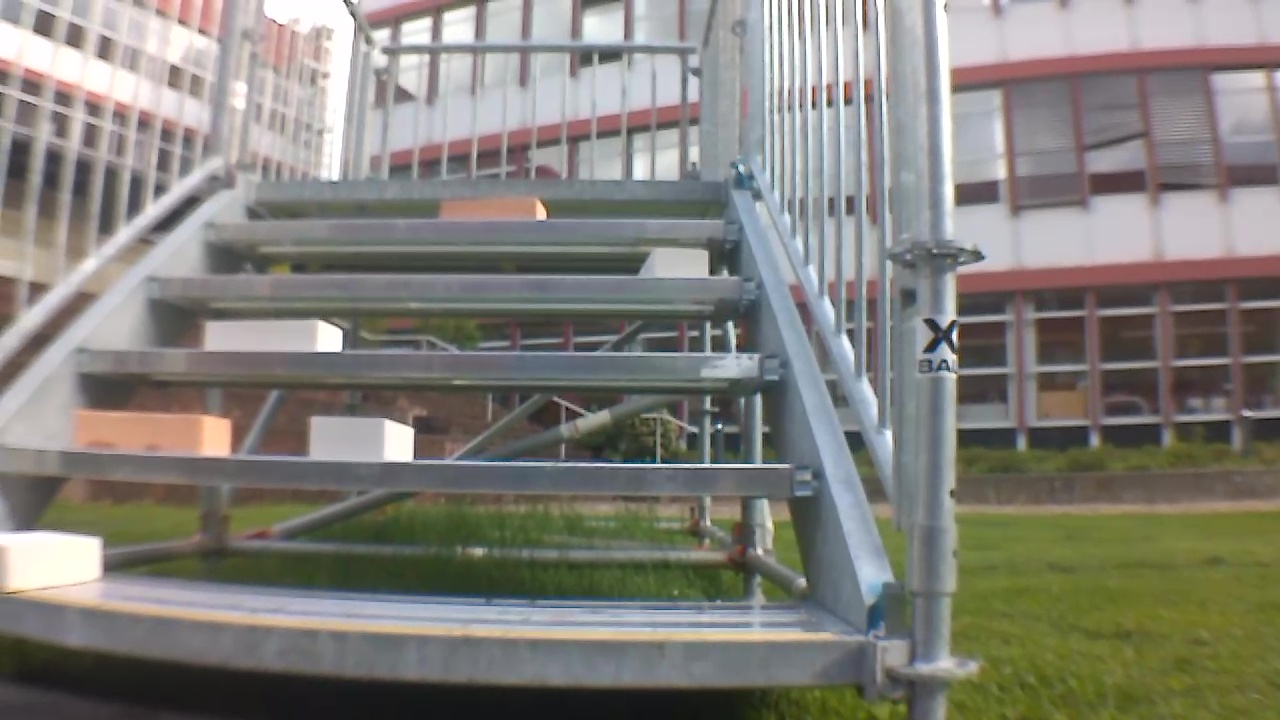brick: (71, 410, 230, 456), (1, 532, 100, 591), (312, 418, 414, 462), (206, 320, 342, 351), (438, 198, 545, 219), (639, 248, 706, 277)
edge: (3, 601, 859, 686), (4, 447, 817, 496), (75, 347, 788, 378), (150, 273, 759, 300), (208, 218, 740, 239), (251, 178, 728, 199)
stairs: (9, 3, 979, 708)
steps: (2, 164, 865, 698)
